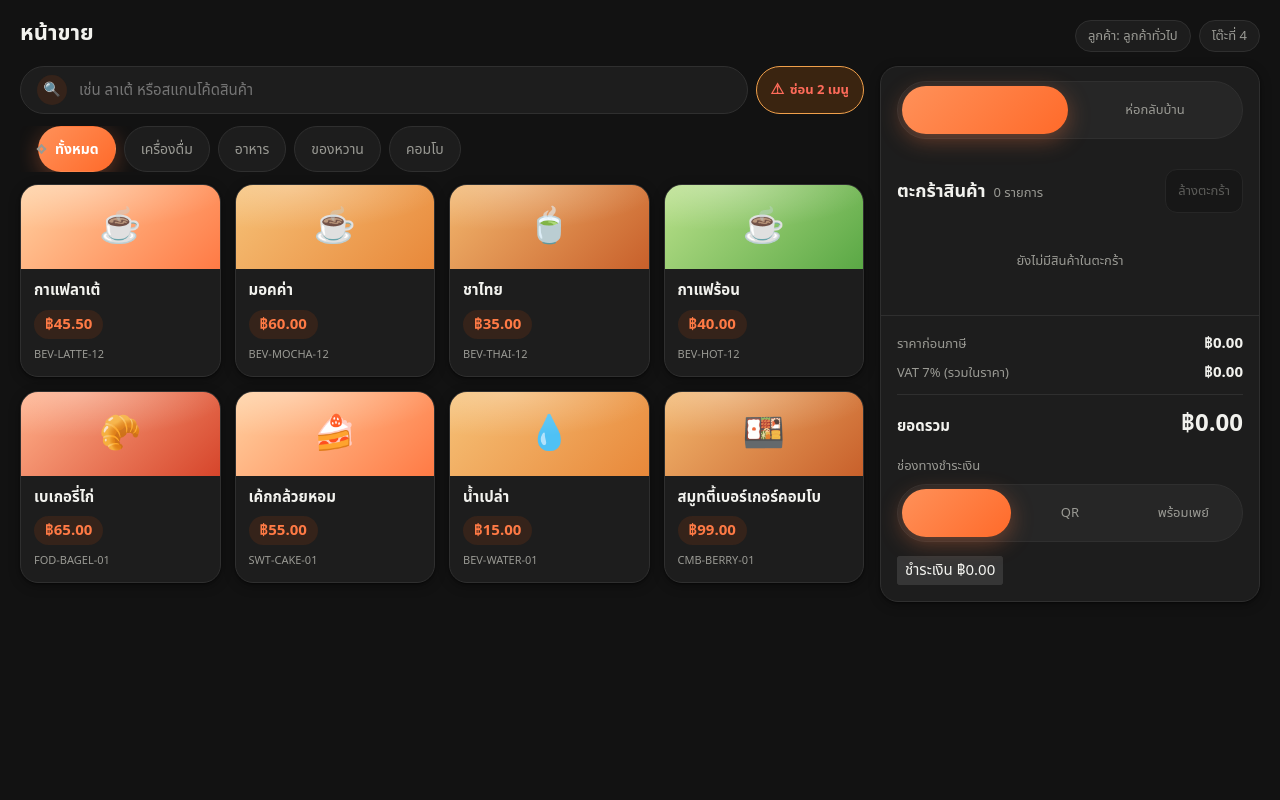
SalesTerminalView — a click lands in the basket › keeps the SKU the catalog gave, so the line can be matched to a shelf
Click the button with aria-label "เพิ่ม มอคค่า": (335, 280) [234,184,435,376]
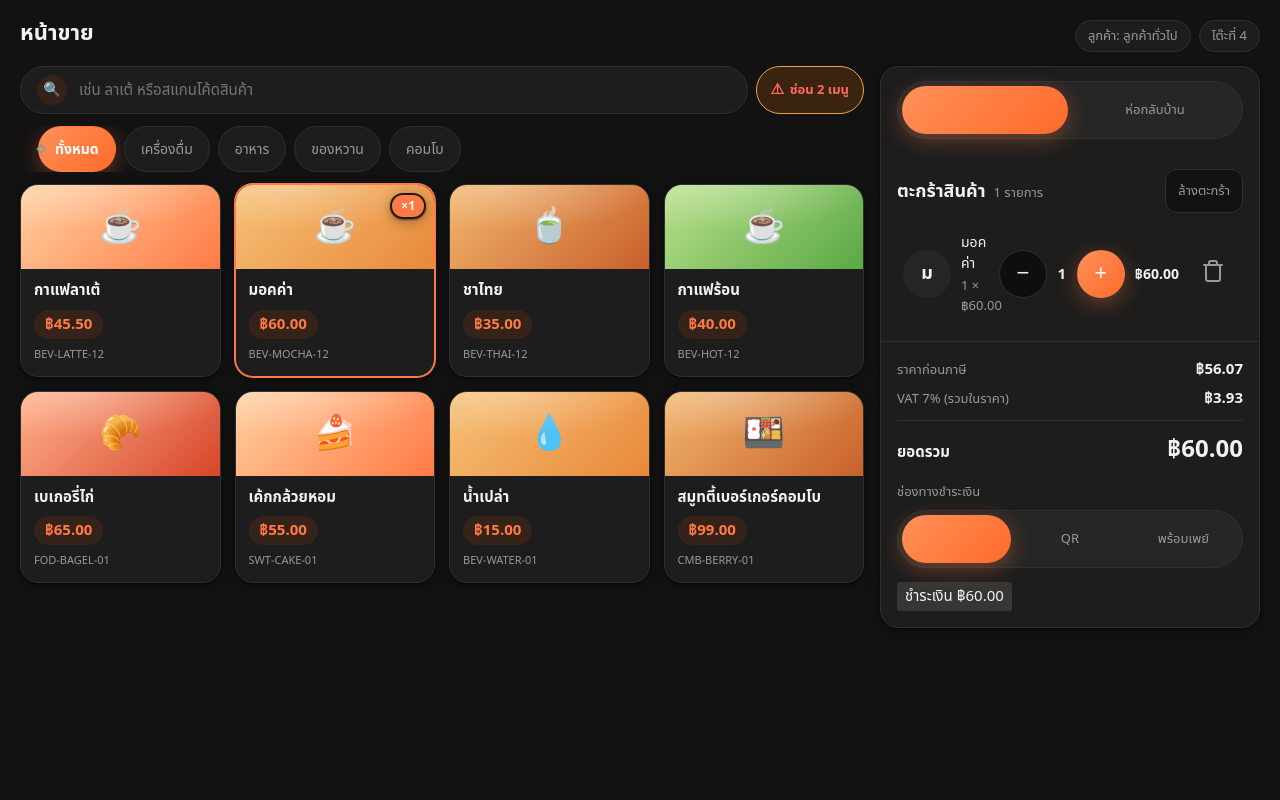
Result: the list item "มอคค่า" shows "1 × ฿60.00" at [897,223,1243,325]
